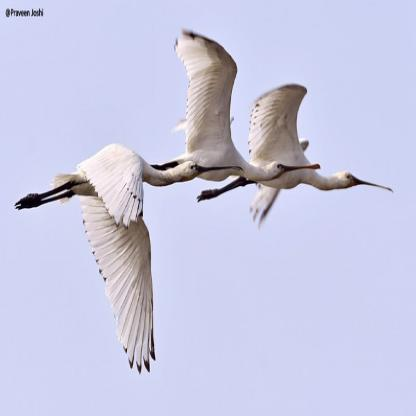Burung: (13, 141, 242, 377), (193, 84, 392, 249), (148, 31, 318, 181)
